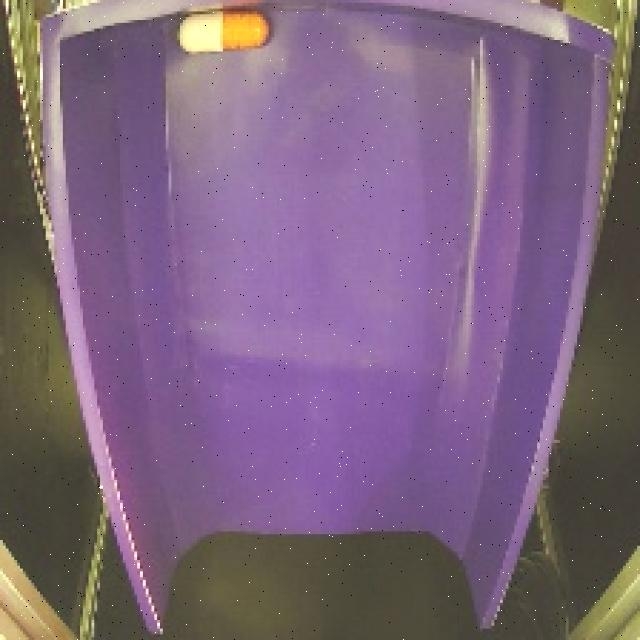small: (171, 5, 278, 64)
